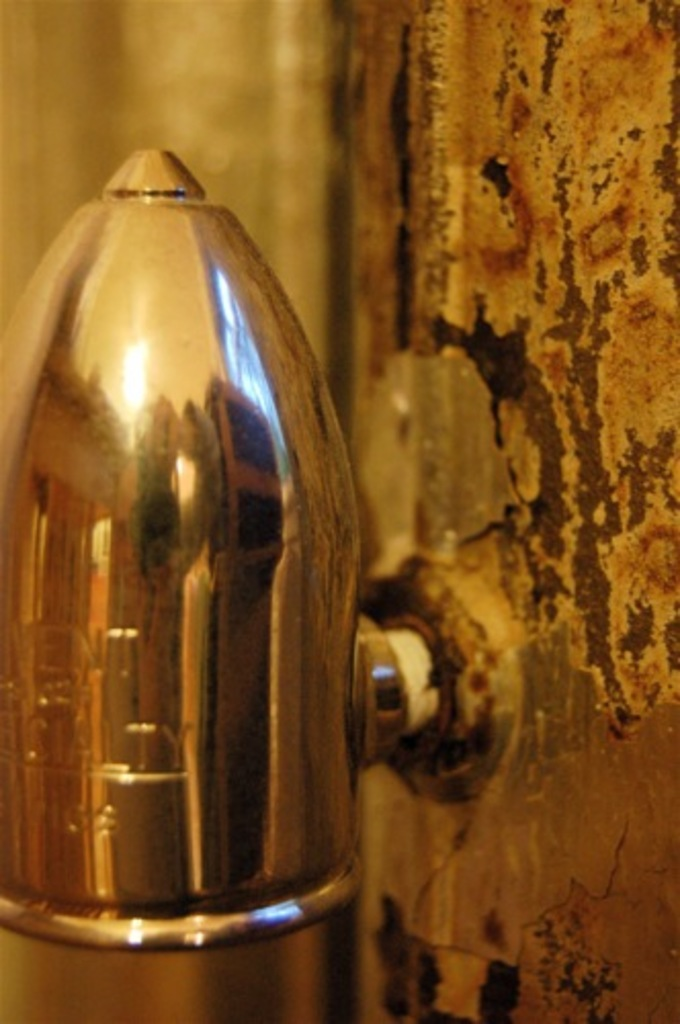handle: (25, 162, 373, 977)
